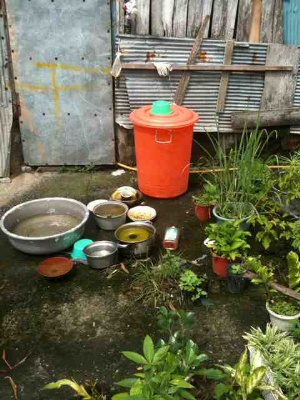bottle: (163, 220, 180, 253)
bowl: (2, 197, 90, 254), (114, 222, 159, 256), (93, 200, 129, 230), (83, 239, 119, 268), (150, 100, 174, 117)
bucket: (129, 103, 201, 199)
plate: (34, 255, 76, 281), (128, 204, 158, 223)
